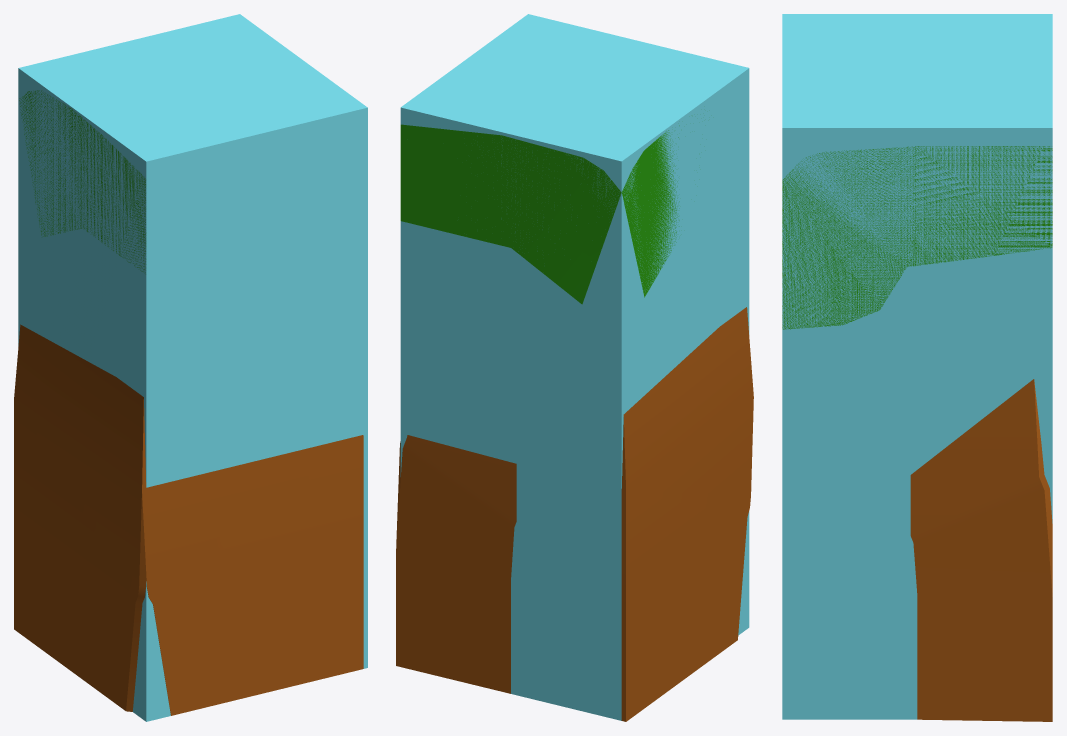
Rendered from PBOX1_Grass_01.FBX.
3 renders of one model, left to right at view 1: azimuth 30°, elevation 25°; view 2: azimuth 150°, elevation 25°; view 3: azimuth 270°, elevation 25°, orthographic. The views are drawn at different scales.
Visible parts, largest first — view 1: PBOX1_Grass_01, PBOX1_SUB_TAB_MUD_01, PBOX1_SUB_Grass_01; view 2: PBOX1_Grass_01, PBOX1_SUB_TAB_MUD_01, PBOX1_SUB_Grass_01; view 3: PBOX1_Grass_01, PBOX1_SUB_TAB_MUD_01, PBOX1_SUB_Grass_01.
Part boxes in pixels (x1,y1,x2,y2): PBOX1_Grass_01: [18, 14, 367, 721]; PBOX1_SUB_TAB_MUD_01: [14, 324, 363, 715]; PBOX1_SUB_Grass_01: [19, 90, 146, 272]; PBOX1_Grass_01: [400, 14, 749, 720]; PBOX1_SUB_TAB_MUD_01: [396, 307, 753, 721]; PBOX1_SUB_Grass_01: [400, 124, 679, 304]; PBOX1_Grass_01: [782, 14, 1052, 719]; PBOX1_SUB_TAB_MUD_01: [910, 379, 1052, 721]; PBOX1_SUB_Grass_01: [782, 146, 1052, 329].
Bounding box in the file's own units: 6.24 × 14.5 × 6.01.
